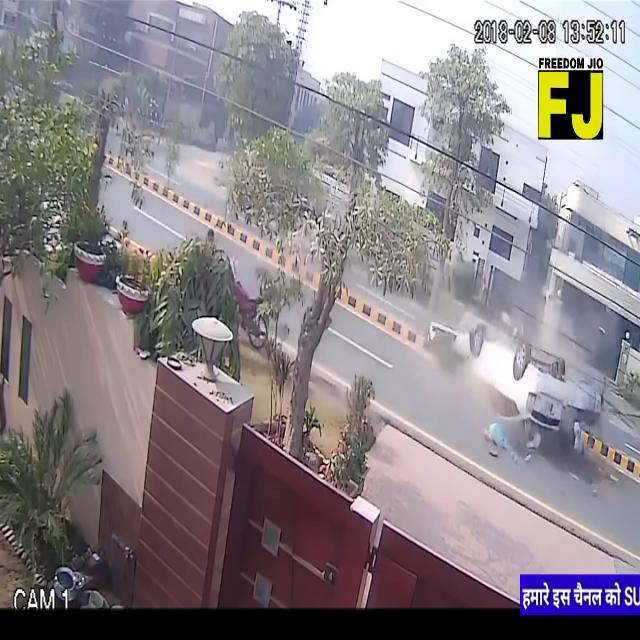accident: (472, 334, 566, 446)
